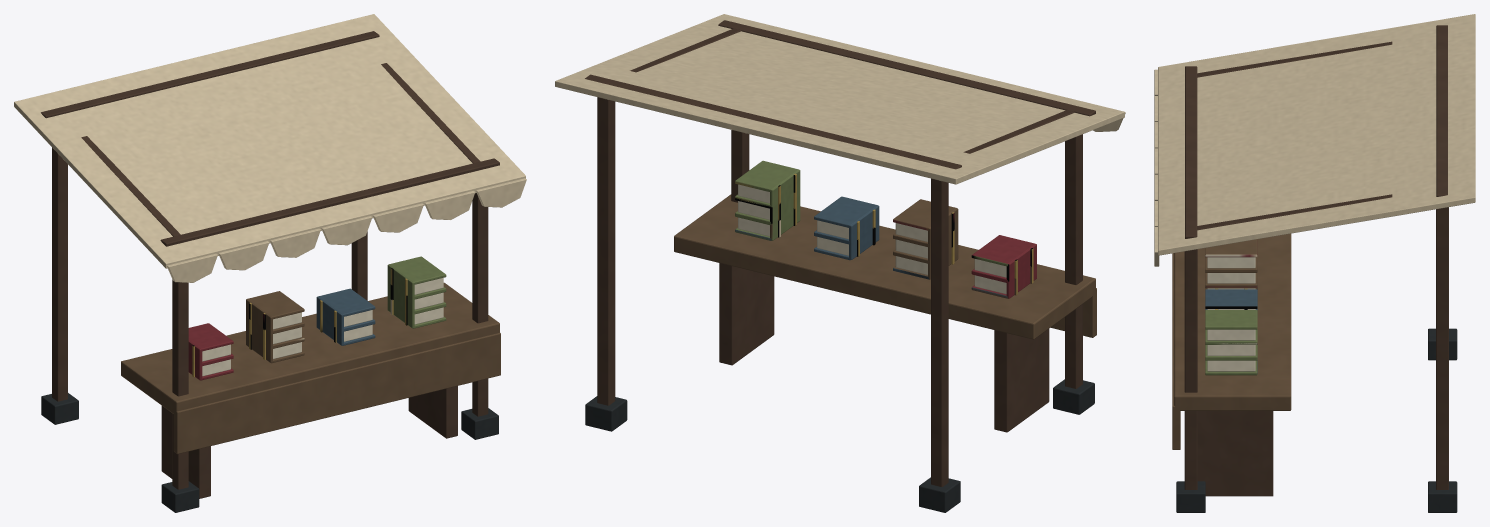
The model's file is Book_Stall.fbx.
3 views of the same model, side by side, from view 1: azimuth 30°, elevation 25°; view 2: azimuth 150°, elevation 25°; view 3: azimuth 270°, elevation 25° (orthographic). The views are drawn at different scales.
Parts seen in each view (by area): view 1: Book_Stall.001; view 2: Book_Stall.001; view 3: Book_Stall.001.
Boxes of the visible parts, x1=… form: Book_Stall.001: x1=14, y1=14, x2=526, y2=512; Book_Stall.001: x1=555, y1=14, x2=1125, y2=512; Book_Stall.001: x1=1154, y1=14, x2=1475, y2=512.
Size of the model in its own units: 3.56 by 2.94 by 2.63.
